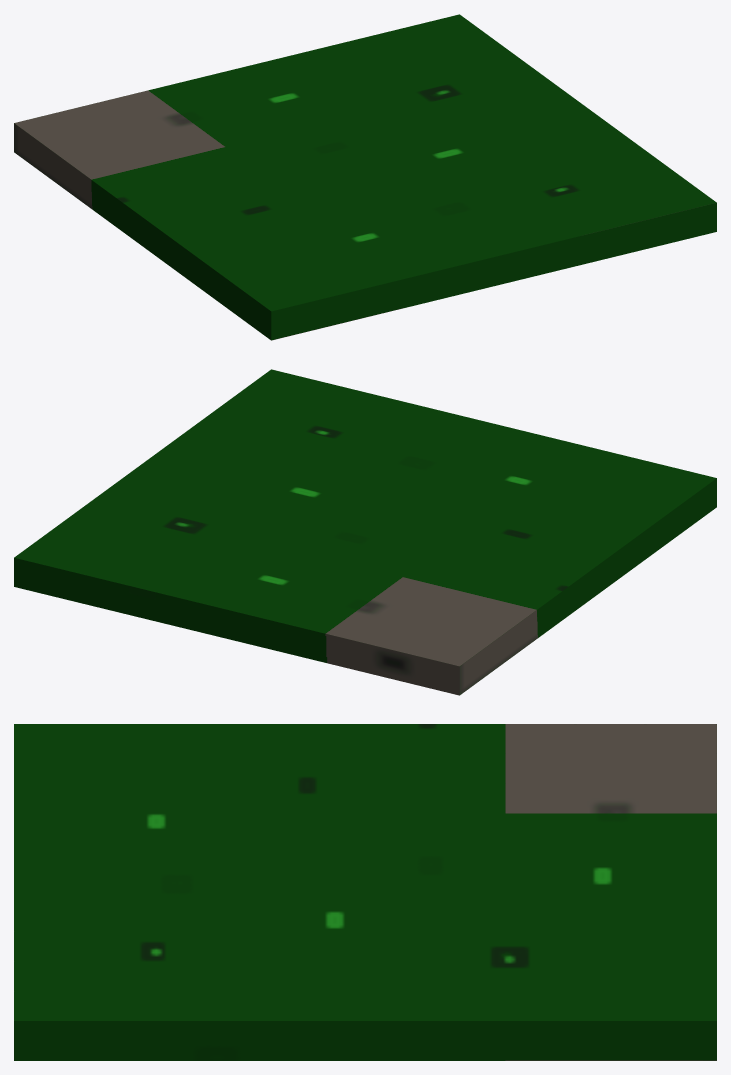
File: sidewalk_8x8__inner_corner_00.glb
3 views of the same model, one above another, from view 1: azimuth 30°, elevation 25°; view 2: azimuth 150°, elevation 25°; view 3: azimuth 270°, elevation 25° (orthographic). The views are drawn at different scales.
Parts seen in each view (by area): view 1: sidewalk_8x8_inner_corner_00; view 2: sidewalk_8x8_inner_corner_00; view 3: sidewalk_8x8_inner_corner_00.
Boxes of the visible parts, x1,y1,x2,y2 form: sidewalk_8x8_inner_corner_00: (14, 14, 716, 340); sidewalk_8x8_inner_corner_00: (14, 369, 716, 695); sidewalk_8x8_inner_corner_00: (14, 724, 716, 1060).
Size of what is drawn, in the model's own units: 8 by 0.5 by 8.
Materials: 1 (1 with a texture image).
